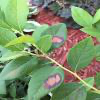Blueberry leaf: (27, 66, 66, 99), (0, 55, 41, 82), (67, 35, 95, 73), (3, 0, 30, 33), (51, 83, 89, 99), (0, 29, 24, 53), (34, 32, 53, 56)
